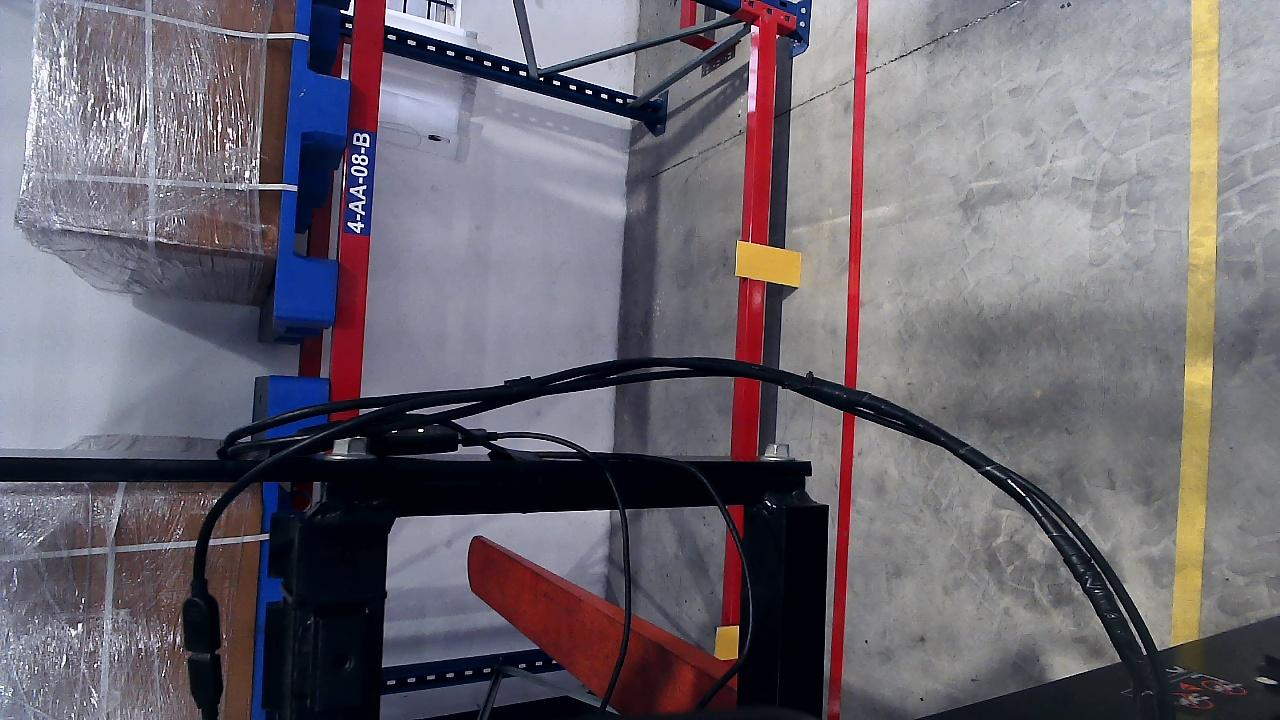h_rack: (330, 0, 388, 404), (742, 16, 780, 354)
orange_strip: (735, 241, 801, 287)
red_line: (824, 361, 859, 680), (843, 3, 868, 385)
small_pallet: (270, 0, 362, 316)
yellow_line: (1172, 51, 1221, 650)
